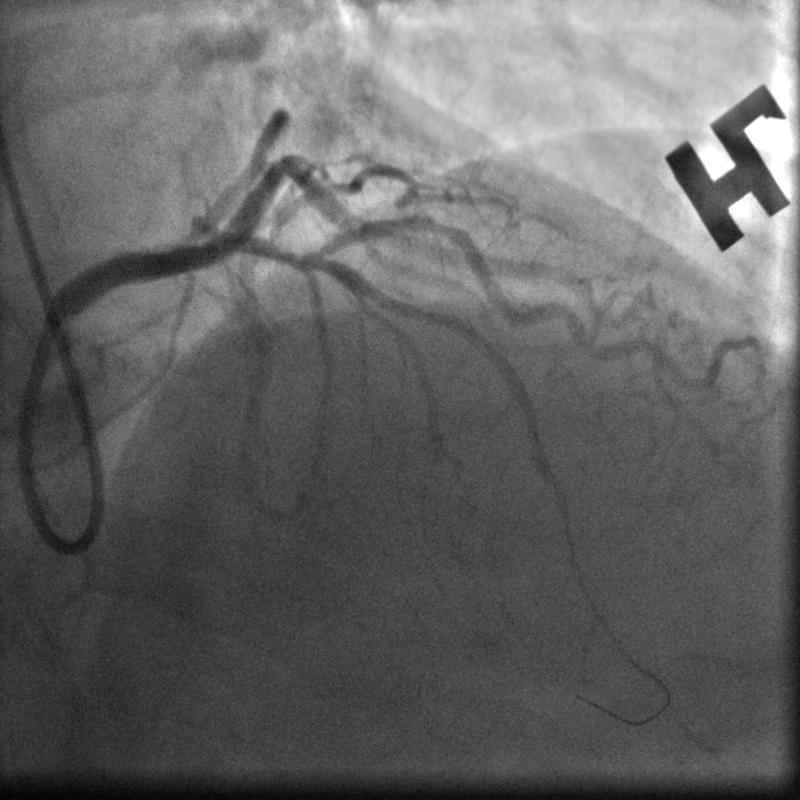Stenosis: (409, 207, 459, 244)
